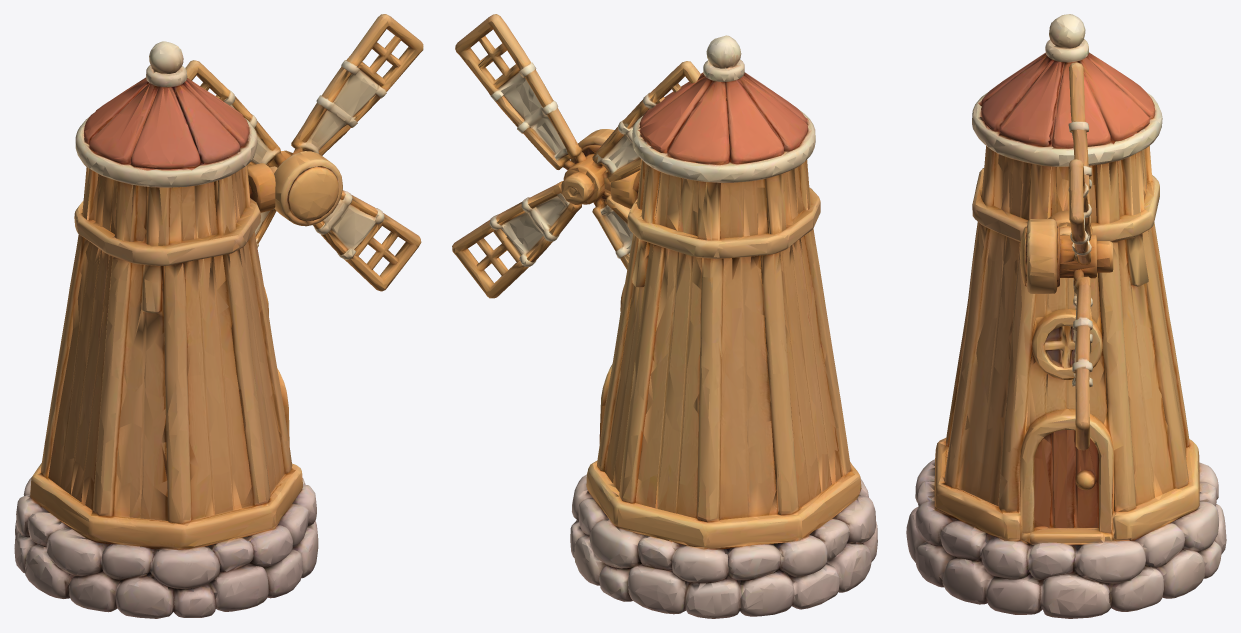
3 renders of one model, left to right at view 1: azimuth 30°, elevation 25°; view 2: azimuth 150°, elevation 25°; view 3: azimuth 270°, elevation 25°, orthographic. The views are drawn at different scales.
Parts seen in each view (by area): view 1: F15_Tower, F15_BladesPivot; view 2: F15_Tower, F15_BladesPivot; view 3: F15_Tower, F15_BladesPivot.
Part boxes in pixels (left/top/right/bottom): F15_Tower: left=14, top=41, right=318, bottom=618; F15_BladesPivot: left=185, top=14, right=423, bottom=291; F15_Tower: left=570, top=35, right=877, bottom=618; F15_BladesPivot: left=452, top=14, right=700, bottom=298; F15_Tower: left=906, top=14, right=1226, bottom=618; F15_BladesPivot: left=1020, top=62, right=1113, bottom=450.
Size of the model in its own units: 6.8 by 8.5 by 4.57.
2 materials, 2 textured.
